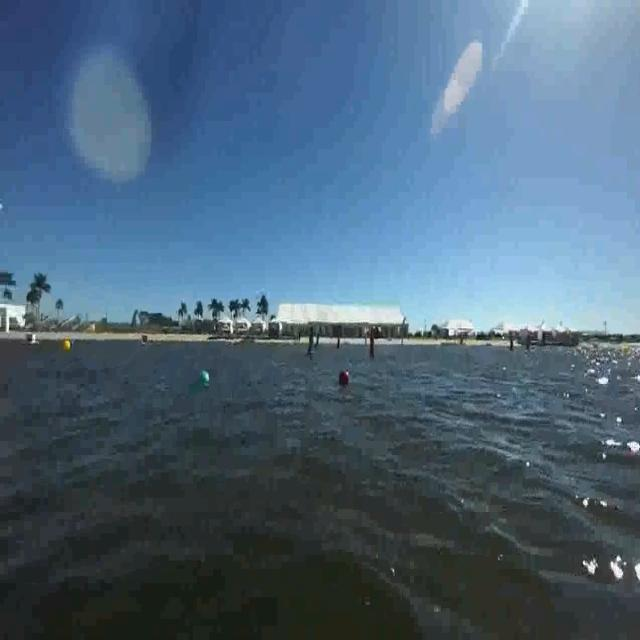green-buoy: (194, 371, 208, 388)
green-column-buoy: (307, 326, 321, 358)
red-buoy: (340, 368, 350, 384)
yellow-buoy: (64, 338, 72, 354)
